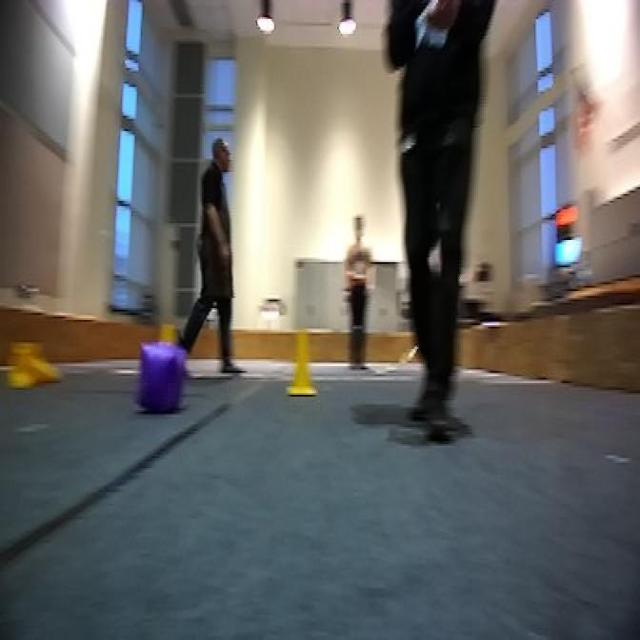frc_cone: (12, 340, 54, 390), (290, 330, 315, 397)
frc_cube: (134, 339, 182, 420)
